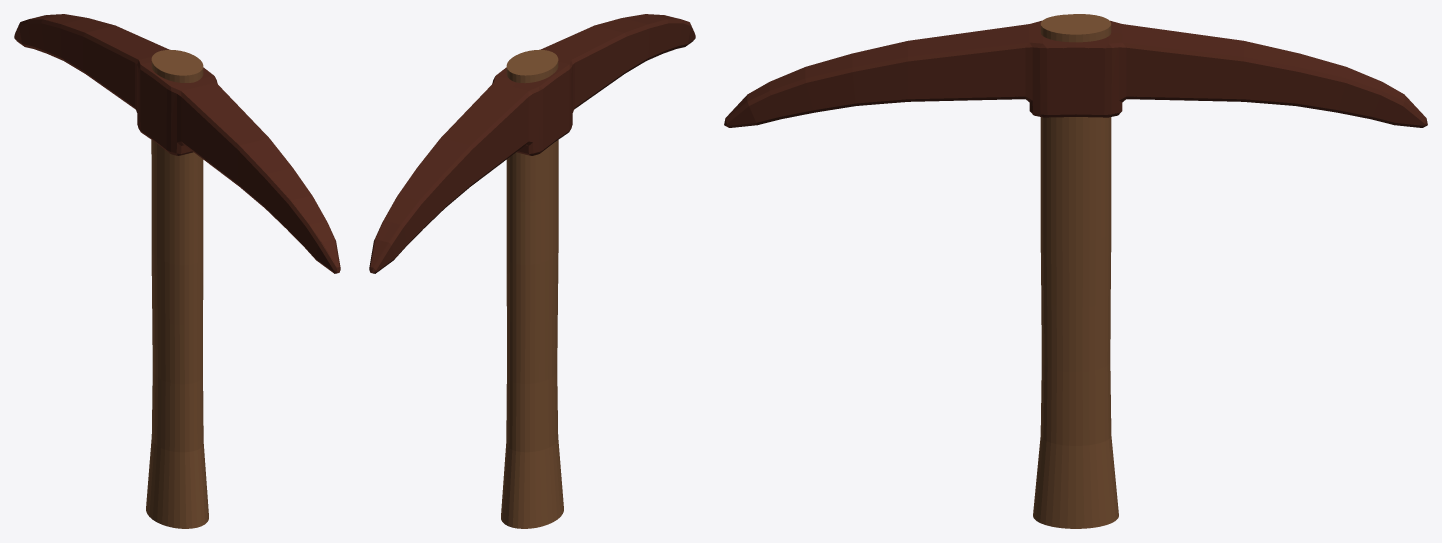
File: PickaxeWood.fbx
3 renders of one model, left to right at view 1: azimuth 30°, elevation 25°; view 2: azimuth 150°, elevation 25°; view 3: azimuth 270°, elevation 25°, orthographic. The views are drawn at different scales.
Visible parts, largest first — view 1: Cylinder, Cube; view 2: Cylinder, Cube; view 3: Cube, Cylinder.
Part boxes in pixels (x1,y1,x2,y2): Cylinder: (146, 49, 208, 528); Cube: (14, 14, 340, 273); Cylinder: (501, 49, 563, 528); Cube: (369, 14, 695, 273); Cube: (724, 20, 1427, 127); Cylinder: (1033, 14, 1118, 528).
Bounding box in the file's own units: 154 × 1339 × 1734.
